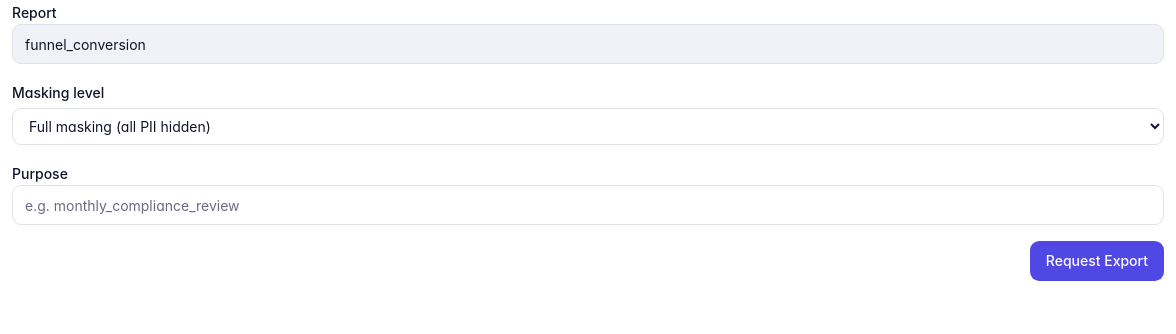
ExportRequestForm › shows error when purpose is empty on submit
Click the button "Request Export".
click(1097, 261)  # box [1030,241,1164,281]
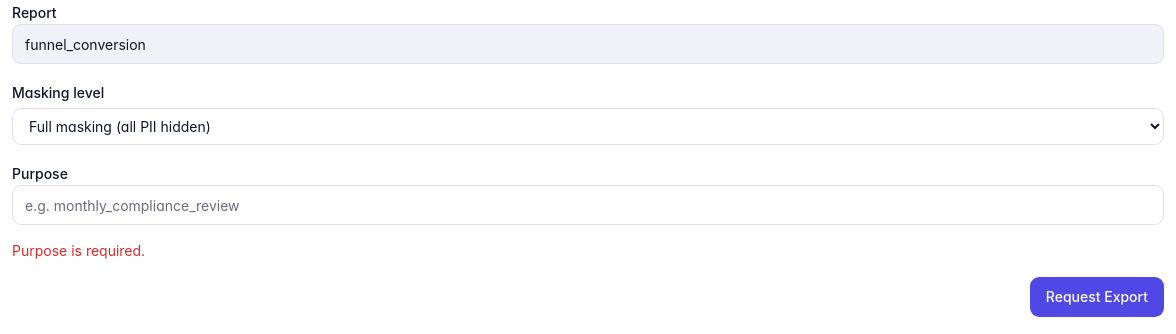
Expected: the message "Purpose is required." is shown, [12,242,145,259]
